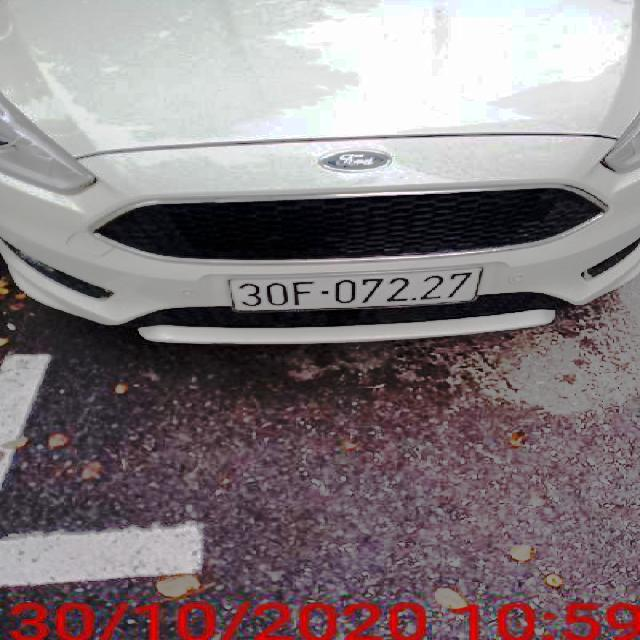license_plate: (232, 268, 486, 310)
